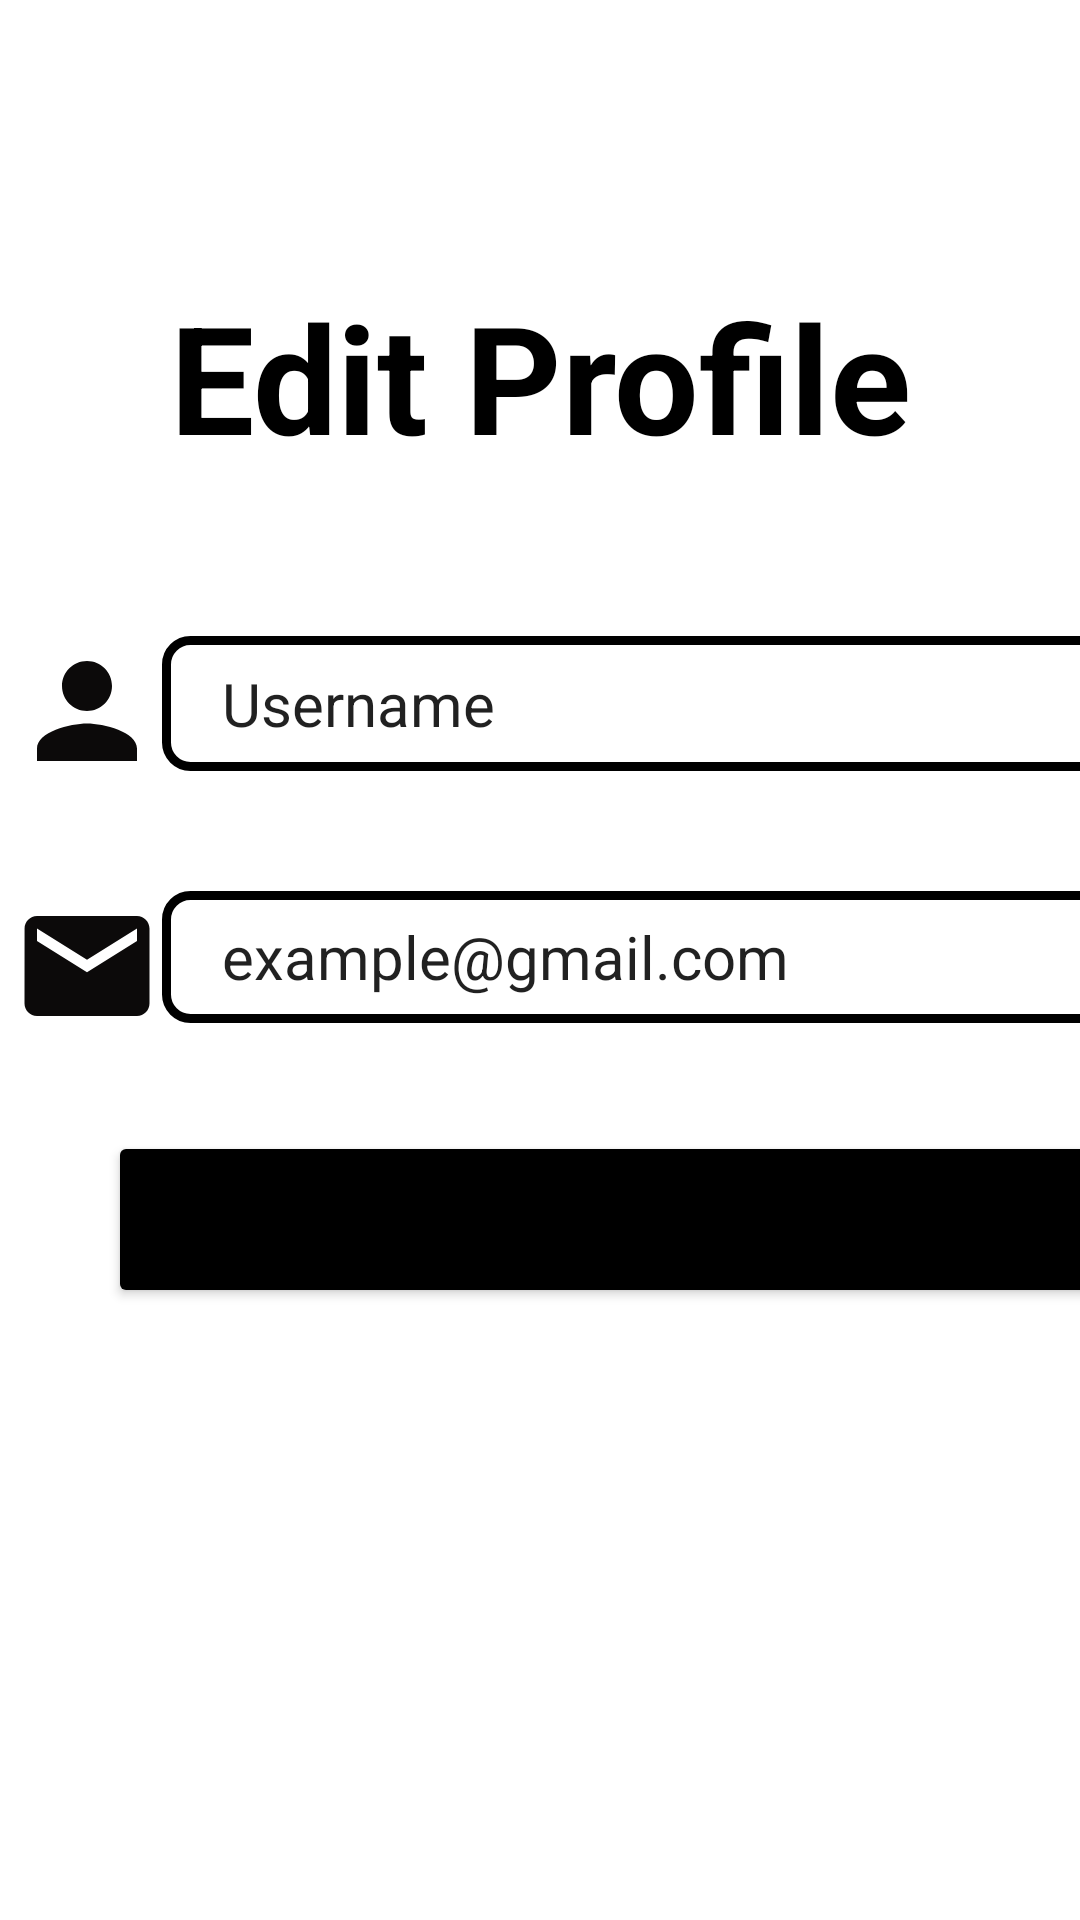

Point at icon controls on the screen. Image size 1080x1920, points as point (x, y).
email: point (87, 966)
person: point (87, 711)
